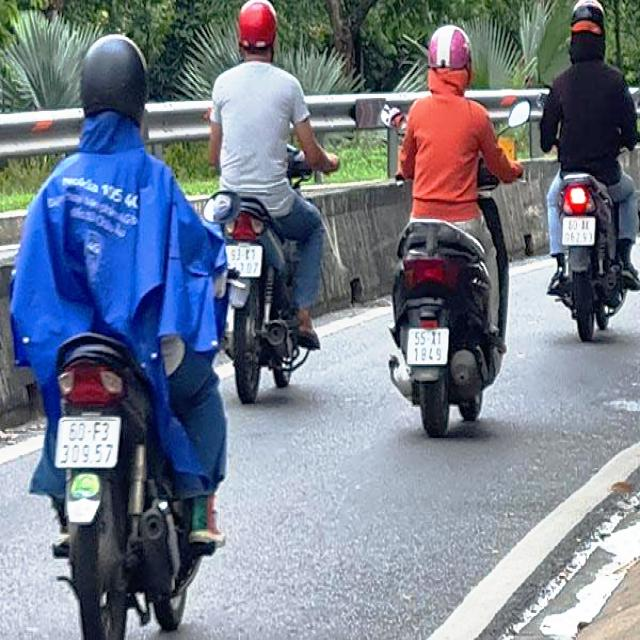license_plate: (58, 416, 123, 470), (408, 328, 449, 367)
